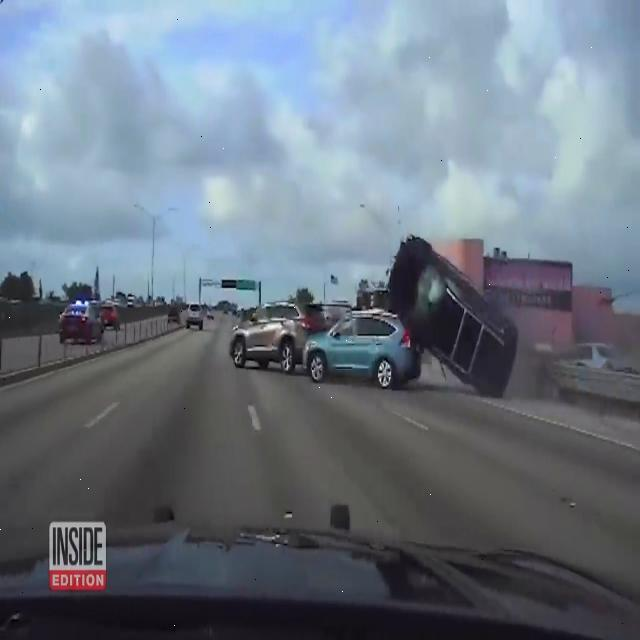accident: (387, 238, 527, 400)
